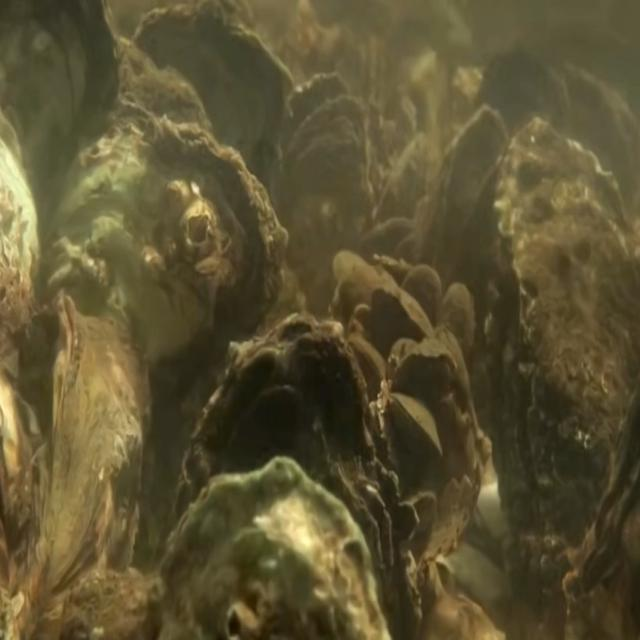Oyster-Closed: (55, 112, 289, 526), (179, 313, 419, 640), (483, 115, 640, 558), (153, 455, 392, 640), (387, 392, 441, 456), (394, 350, 458, 398)
Oyster-Indeterminate: (20, 288, 150, 640), (425, 103, 510, 334), (371, 284, 434, 338), (403, 263, 443, 334), (441, 281, 474, 356)
Oyster-Open: (270, 72, 367, 284)
